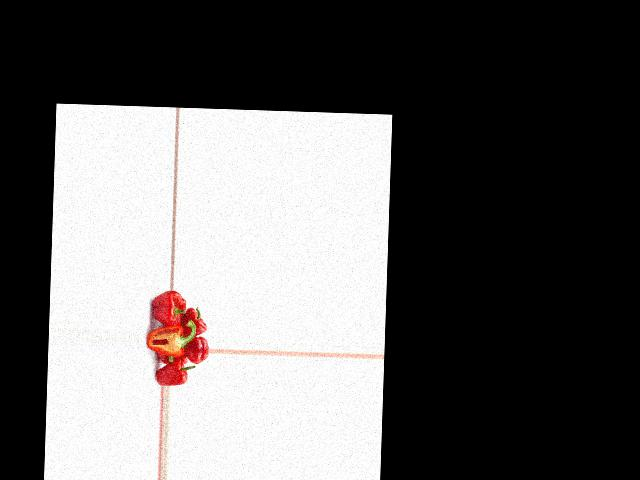bell_pepper: (182, 306, 207, 337)
